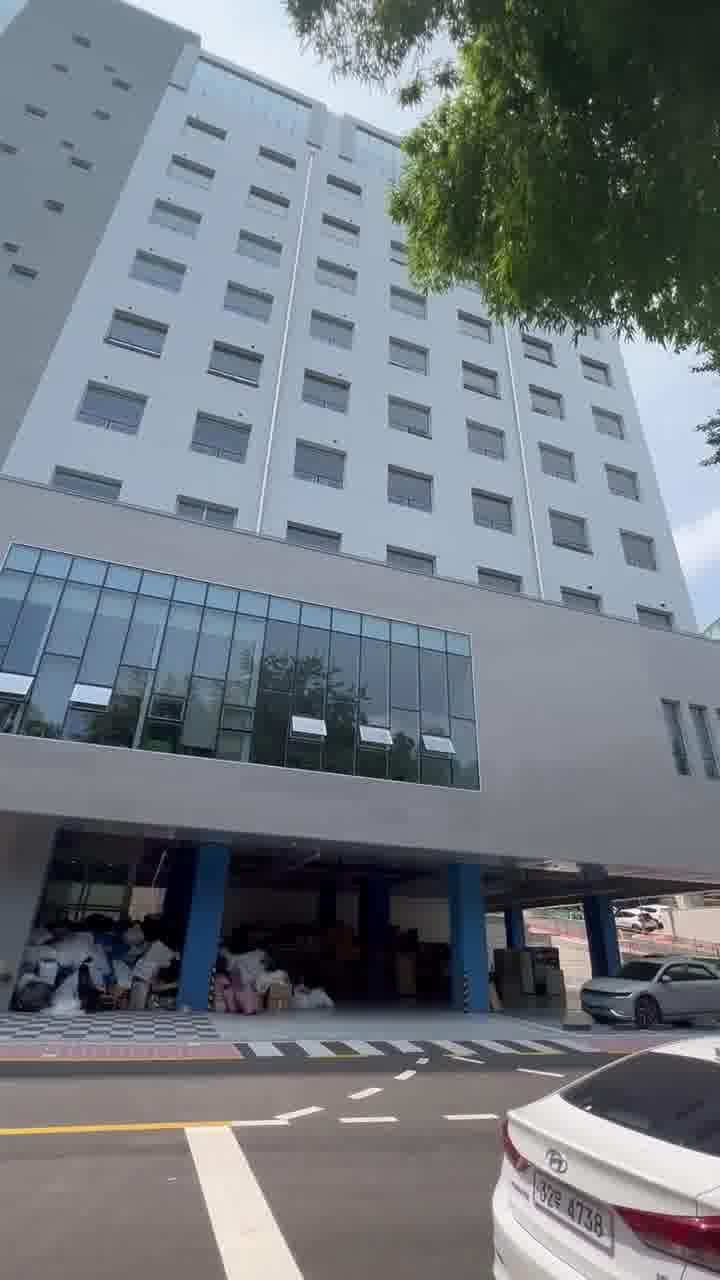building: (0, 278, 704, 906)
